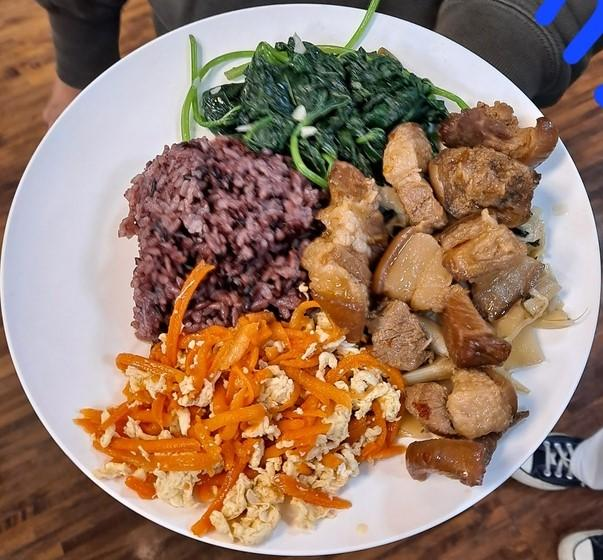big fried chicken leg: (5, 7, 603, 560)
braised fish: (119, 136, 318, 335)
braised fish fillet: (73, 312, 400, 535), (179, 39, 436, 182)
braised pork: (308, 99, 563, 490)
